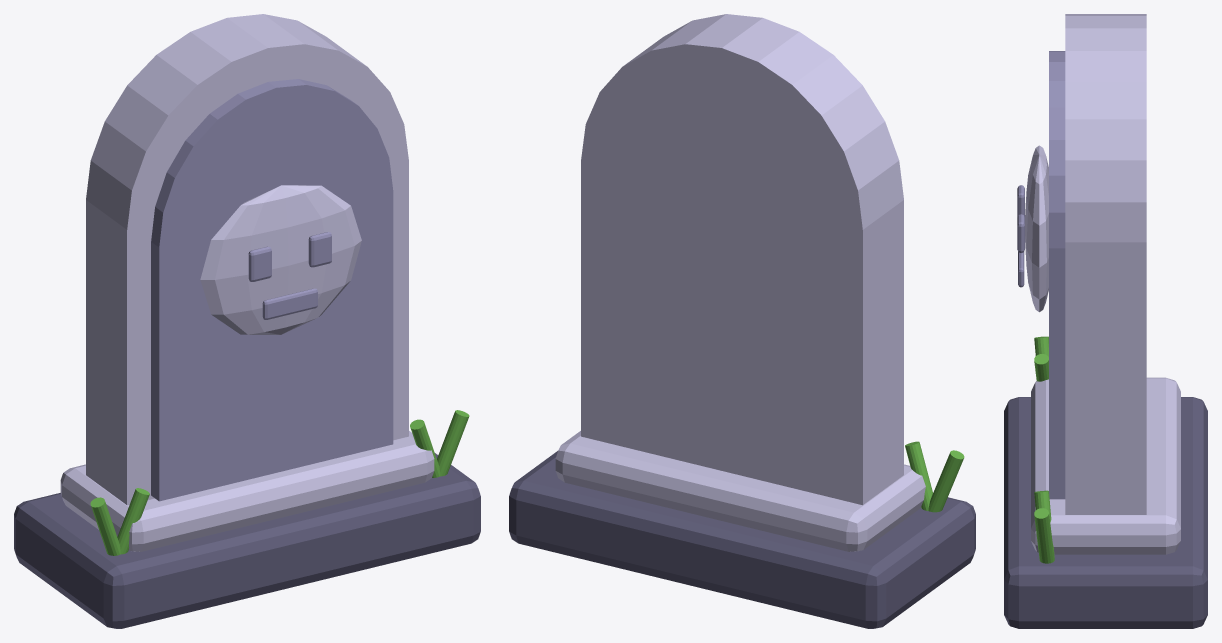
Rendered from Grave_Stone.glb.
3 views of the same model, side by side, from view 1: azimuth 30°, elevation 25°; view 2: azimuth 150°, elevation 25°; view 3: azimuth 270°, elevation 25° (orthographic).
Parts seen in each view (by area): view 1: Inset.001, Arch.001, Foundation.001, Foot.001, ZombieFace.001, Grin.001, Grass.007, Grass.004, Grass.005, Eye.002, Eye.003; view 2: Arch.001, Foundation.001, Foot.001, Grass.004, Grass.005; view 3: Arch.001, Foundation.001, Foot.001, Inset.001, ZombieFace.001, Grass.007, Grass.005, Grass.006, Eye.003.
Part boxes in pixels (x1,y1,x2,y2): Inset.001: (151,79,393,501); Arch.001: (86,14,408,505); Foundation.001: (14,453,480,628); Foot.001: (60,431,434,551); ZombieFace.001: (200,185,361,334); Grin.001: (262,288,317,319); Grass.007: (437,410,469,476); Grass.004: (90,497,120,555); Grass.005: (117,488,149,554); Eye.002: (248,246,271,281); Eye.003: (308,232,331,267); Arch.001: (581,14,903,505); Foundation.001: (509,451,975,628); Foot.001: (555,431,925,551); Grass.004: (928,450,964,512); Grass.005: (905,441,932,510); Arch.001: (1065,14,1146,514); Foundation.001: (1004,397,1207,628); Foot.001: (1031,377,1180,554); Inset.001: (1049,51,1065,499); ZombieFace.001: (1025,145,1048,312); Grass.007: (1034,508,1054,563); Grass.005: (1034,354,1048,381); Grass.006: (1034,490,1054,557); Eye.003: (1017,214,1024,252).
Size of the model in its own units: 2.01 by 2.65 by 0.95.
